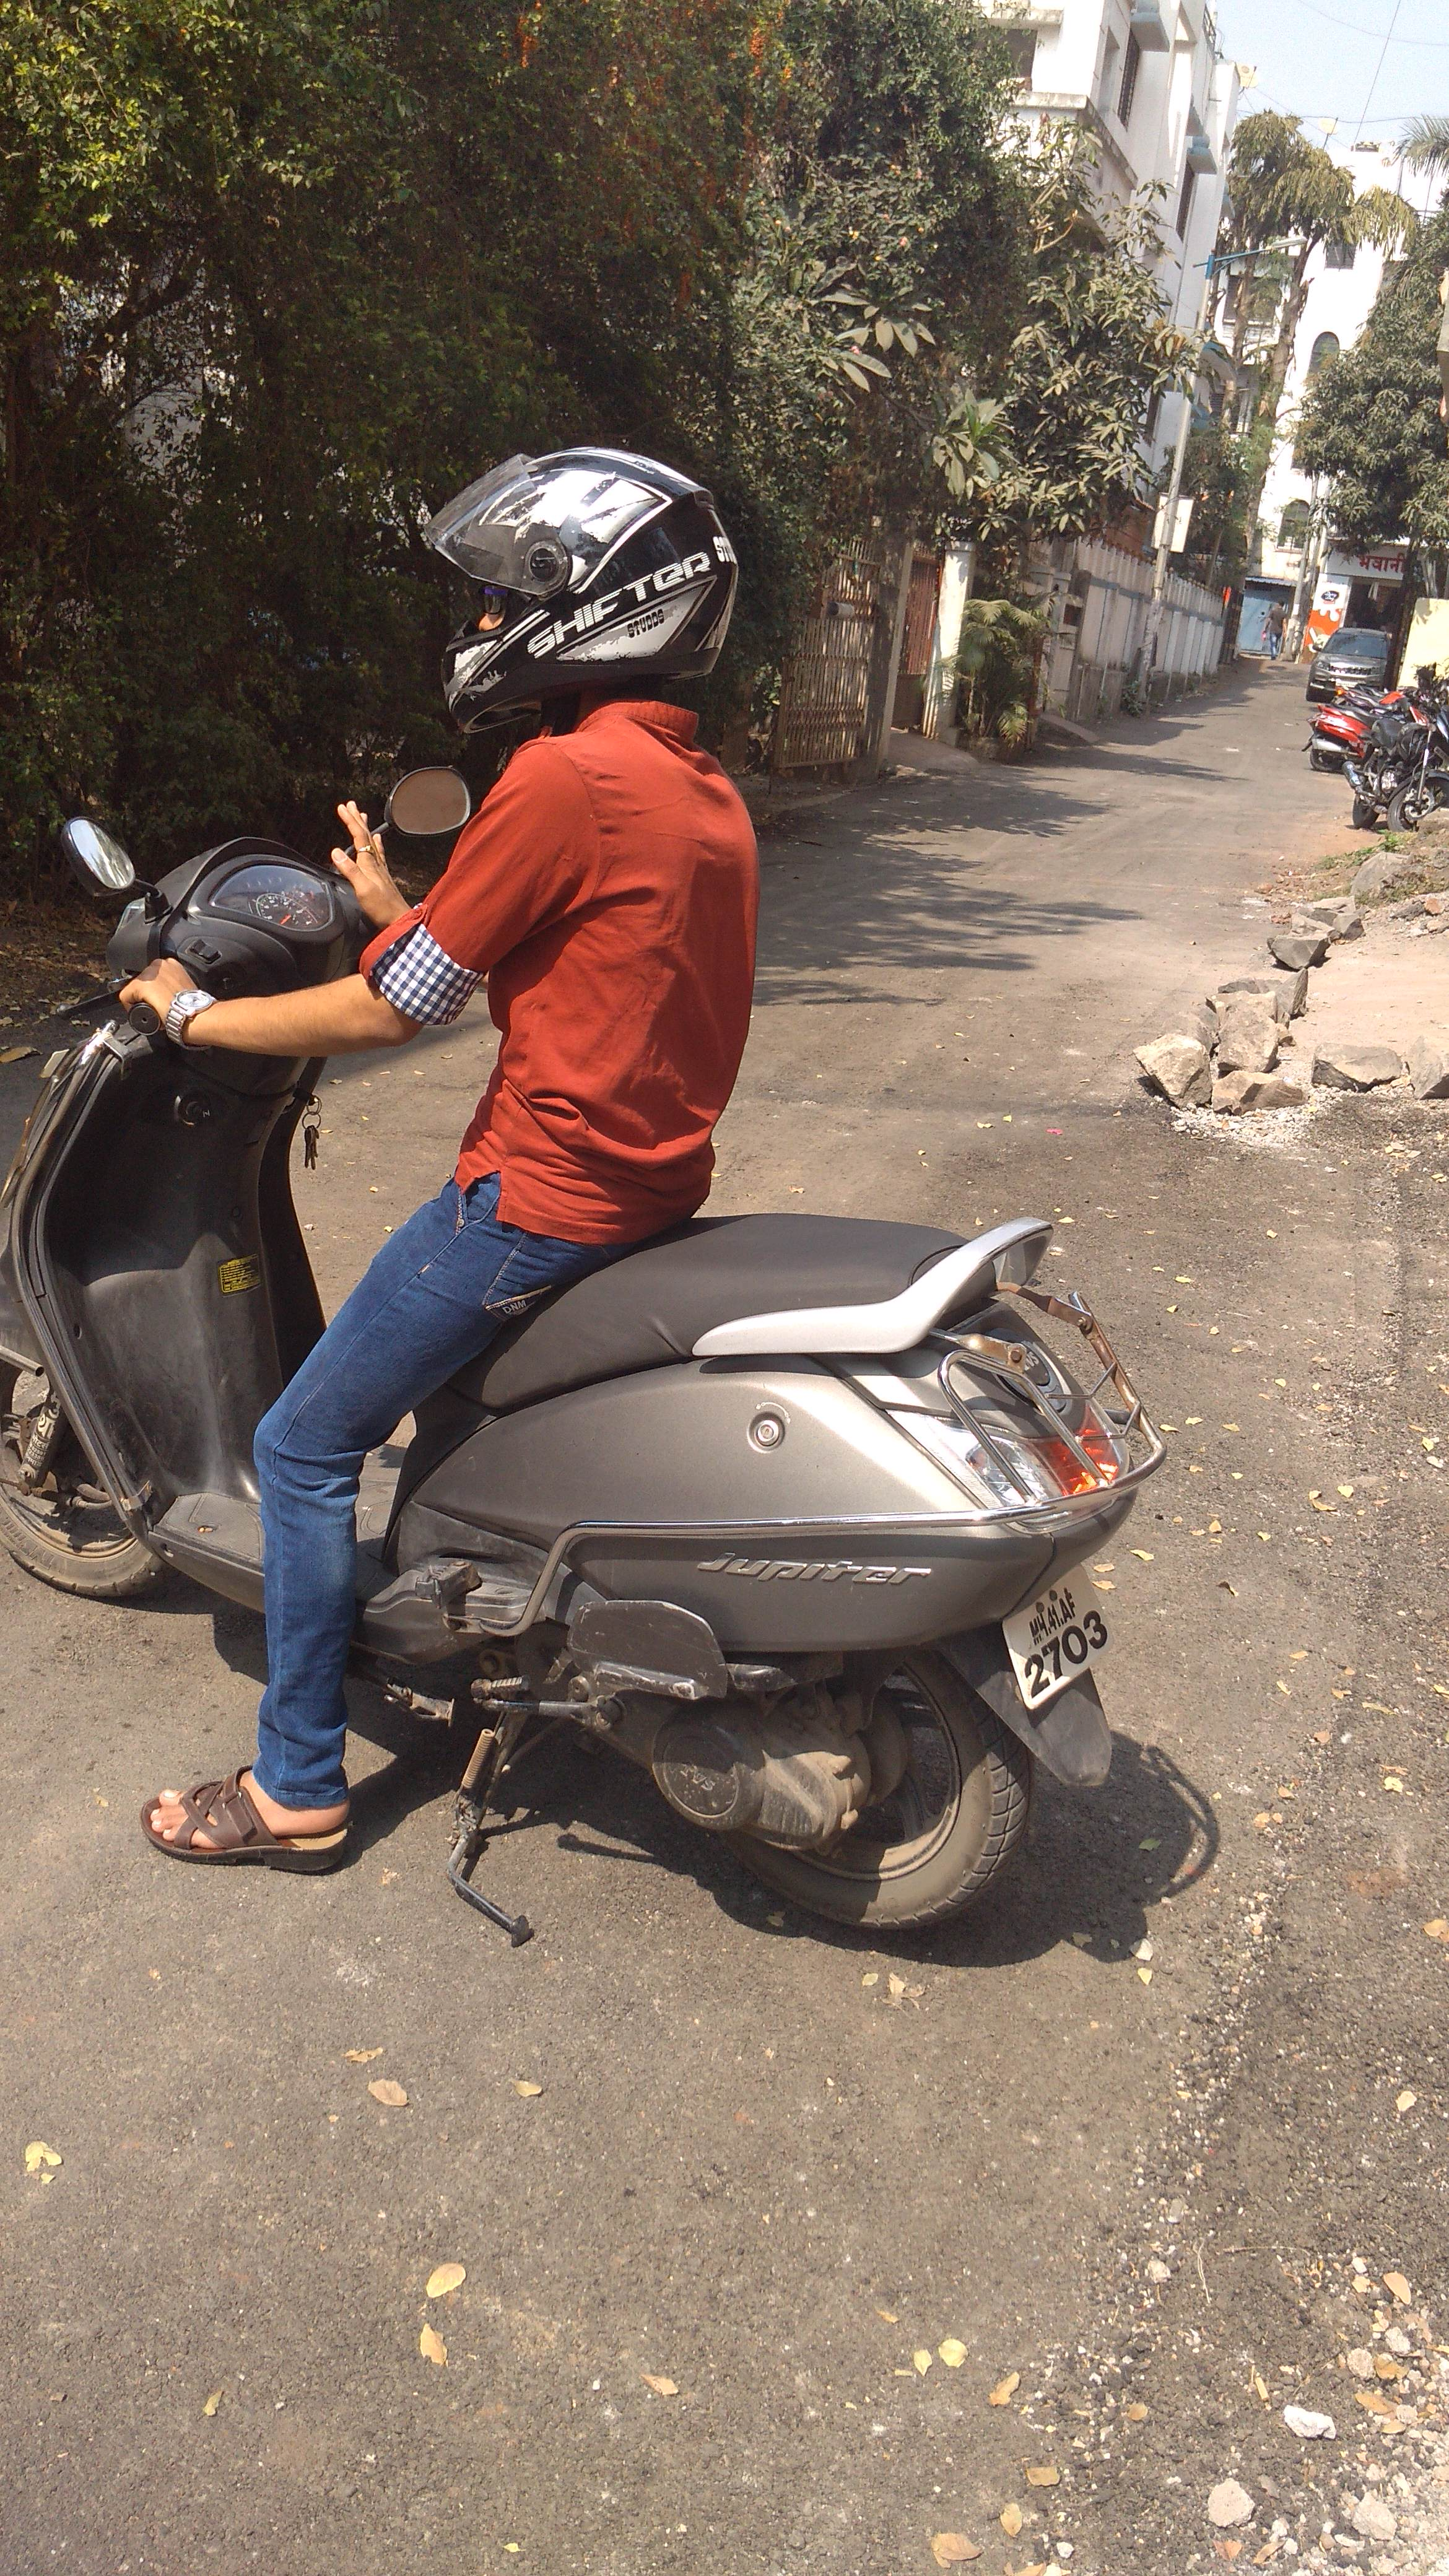helmet: (117, 437, 816, 1973)
